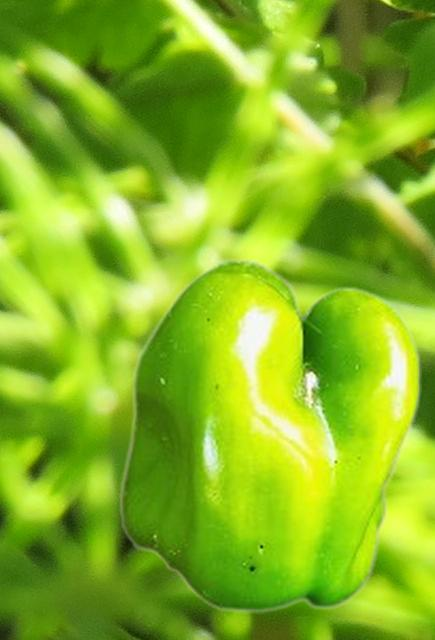bell_pepper: (118, 257, 420, 612)
